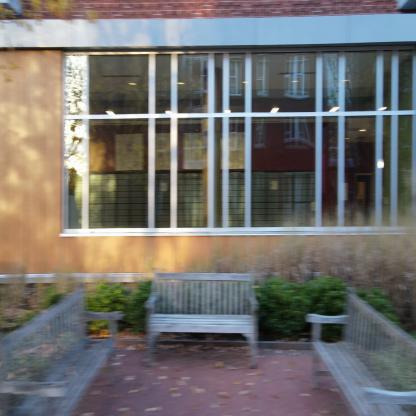Wolf Ridge: (5, 2, 415, 319)
